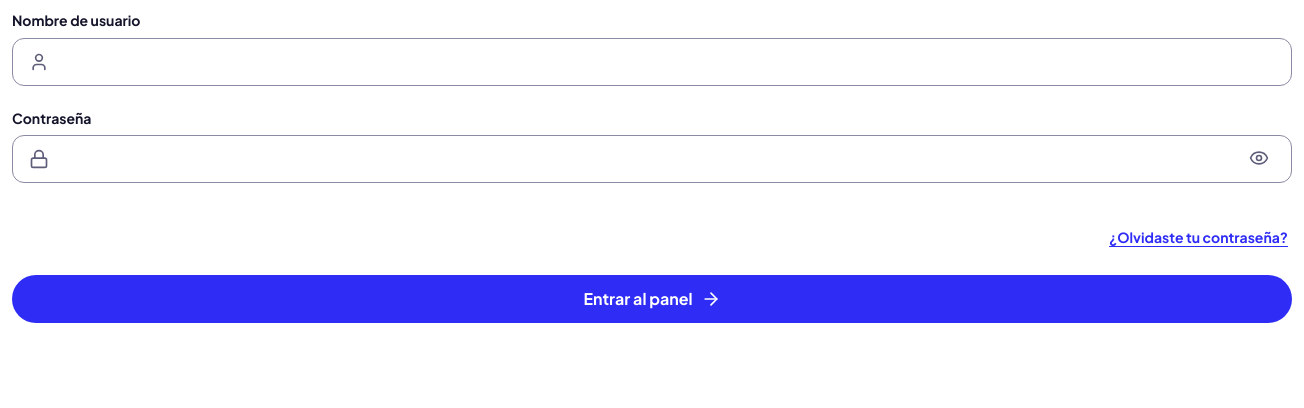
it: LoginForm: envío › 423 muestra el bloqueo con los minutos restantes (CA-007)
Step 1. Type "lucia" into the field labelled "Nombre de usuario" → [666, 62], box [57, 40, 1275, 84]
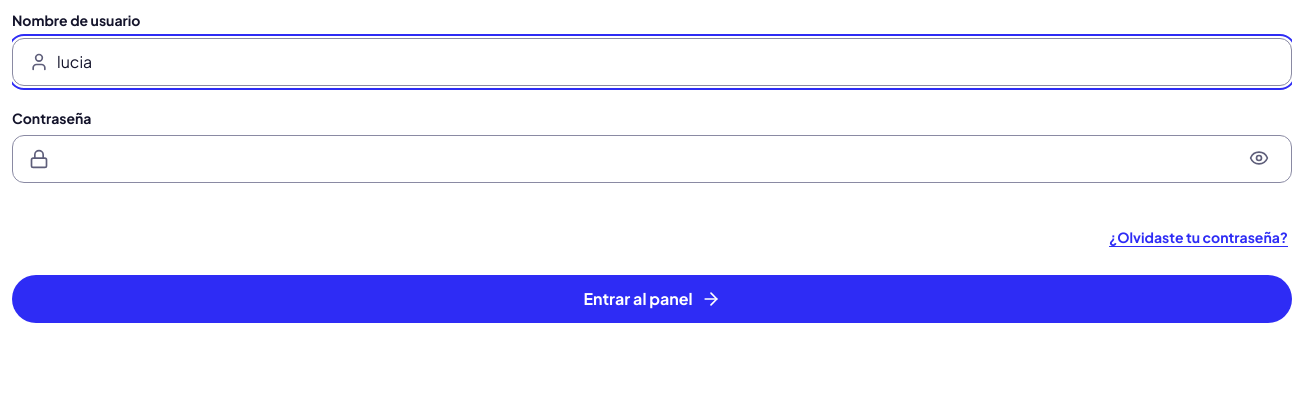
Step 2. Type "correcta-123" into the password field labelled "Contraseña" → [646, 159], box [57, 137, 1235, 181]
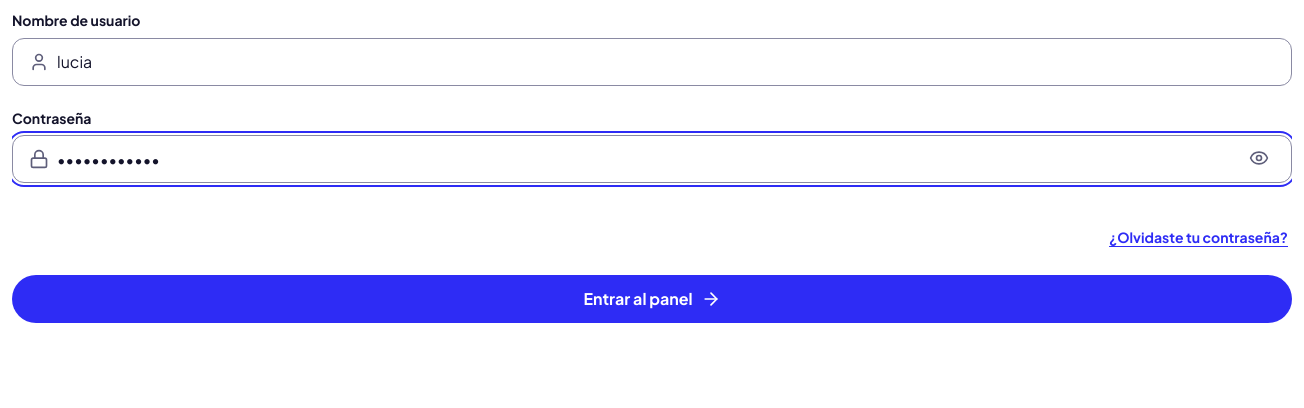
Step 3. Click the button with test id "login-submit" → [652, 299], box [12, 275, 1292, 323]
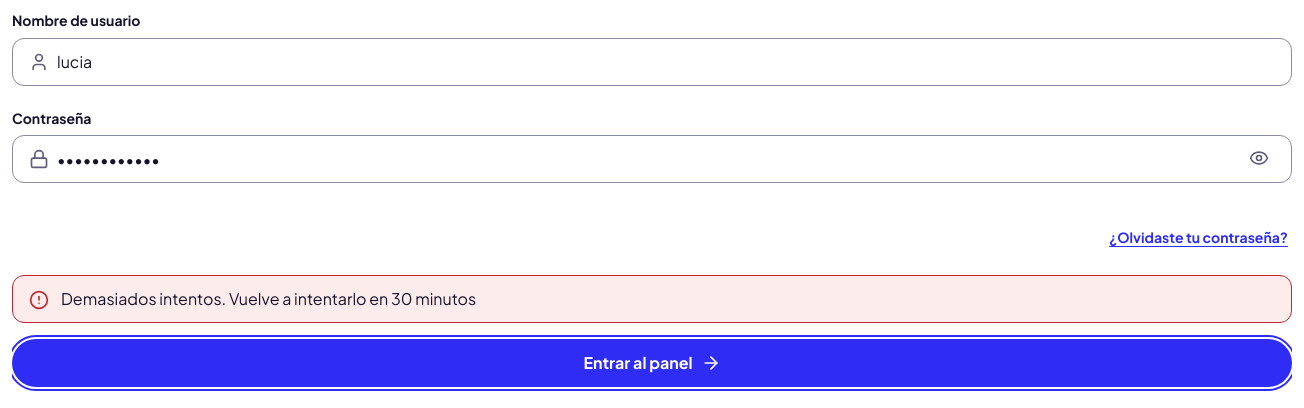
Expected: the message with test id "login-error" reads "Demasiados intentos. Vuelve a intentarlo en 30 minutos", [61, 288, 476, 309]
